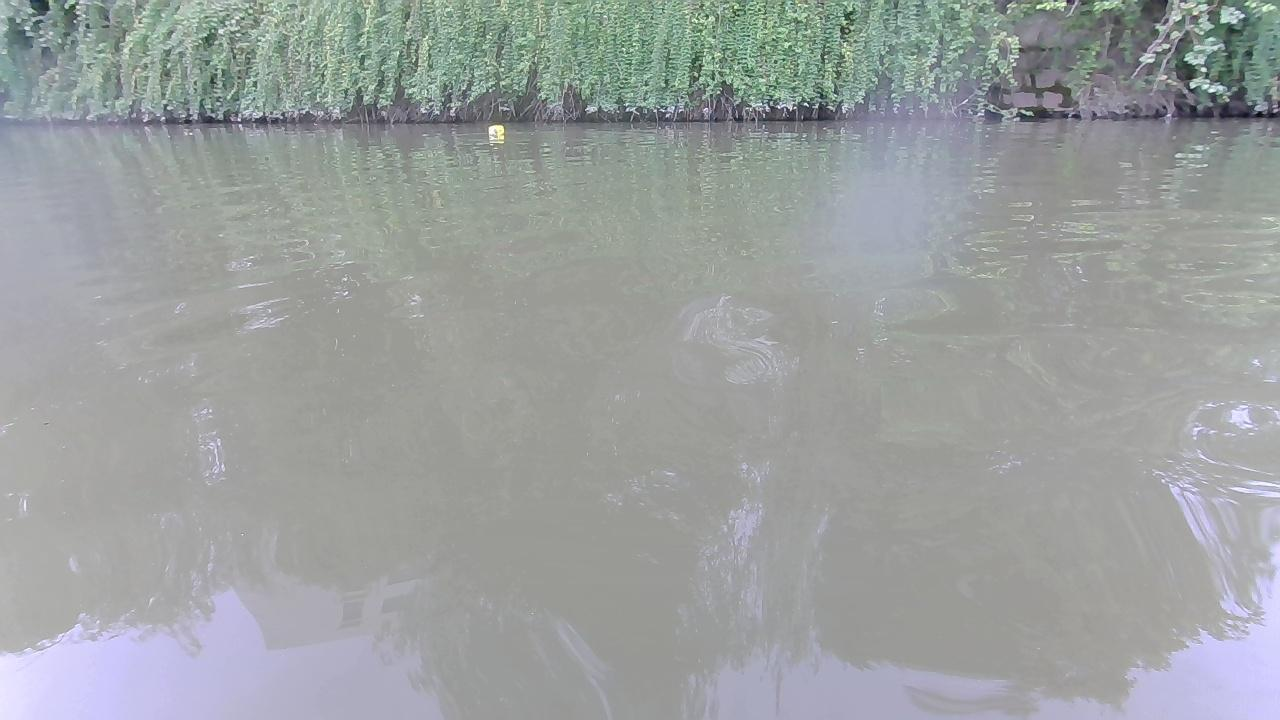bottle: (481, 124, 506, 141)
